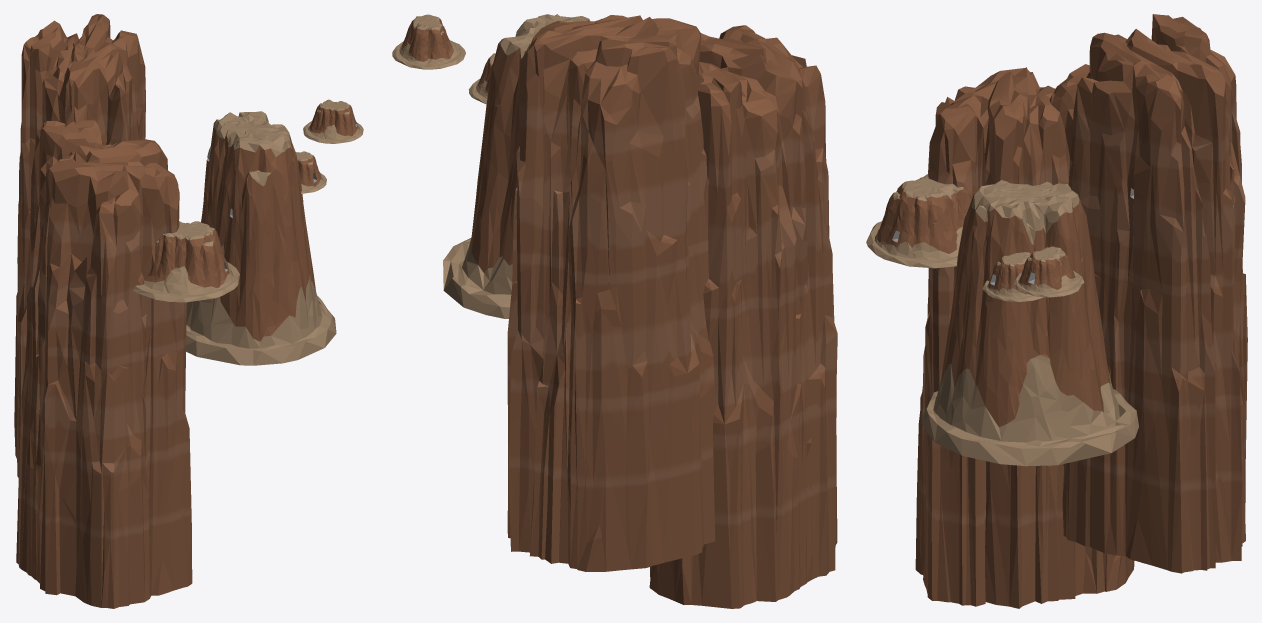
File: LD 2 - Train track Enviro Mountain test.fbx
3 views of the same model, side by side, from view 1: azimuth 30°, elevation 25°; view 2: azimuth 150°, elevation 25°; view 3: azimuth 270°, elevation 25° (orthographic). The views are drawn at different scales.
Parts seen in each view (by area): view 1: SM_Env_Butte_01__14__3.001, SM_Env_Cliff_Cap_01_2.001, SM_Env_Butte_01__15__3.001, SM_Env_Cliff_Cap_01__5_.001, SM_Env_Cliff_Cap_01__1__2.001, SM_Env_Cliff_Cap_01_3.001; view 2: SM_Env_Butte_01__15__3.001, SM_Env_Butte_01__14__3.001, SM_Env_Cliff_Cap_01_2.001, SM_Env_Cliff_Cap_01__1__2.001, SM_Env_Cliff_Cap_01_3.001; view 3: SM_Env_Butte_01__15__3.001, SM_Env_Butte_01__14__3.001, SM_Env_Cliff_Cap_01_2.001, SM_Env_Cliff_Cap_01__5_.001, SM_Env_Cliff_Cap_01__1__2.001, SM_Env_Cliff_Cap_01_3.001.
Part boxes in pixels (box(x1,y1,x2,y2)): SM_Env_Butte_01__14__3.001: box(16, 120, 192, 608); SM_Env_Cliff_Cap_01_2.001: box(186, 111, 336, 365); SM_Env_Butte_01__15__3.001: box(14, 14, 145, 477); SM_Env_Cliff_Cap_01__5_.001: box(133, 221, 239, 302); SM_Env_Cliff_Cap_01__1__2.001: box(303, 99, 363, 143); SM_Env_Cliff_Cap_01_3.001: box(295, 151, 326, 193); SM_Env_Butte_01__15__3.001: box(507, 15, 716, 571); SM_Env_Butte_01__14__3.001: box(649, 25, 837, 608); SM_Env_Cliff_Cap_01_2.001: box(443, 14, 589, 318); SM_Env_Cliff_Cap_01__1__2.001: box(392, 14, 465, 69); SM_Env_Cliff_Cap_01_3.001: box(468, 53, 495, 104); SM_Env_Butte_01__15__3.001: box(1062, 14, 1247, 573); SM_Env_Butte_01__14__3.001: box(915, 64, 1134, 608); SM_Env_Cliff_Cap_01_2.001: box(921, 180, 1138, 466); SM_Env_Cliff_Cap_01__5_.001: box(866, 174, 971, 268); SM_Env_Cliff_Cap_01__1__2.001: box(1013, 246, 1084, 297); SM_Env_Cliff_Cap_01_3.001: box(982, 252, 1043, 301).
Size of the model in its own units: 42113 by 56926 by 35406.
